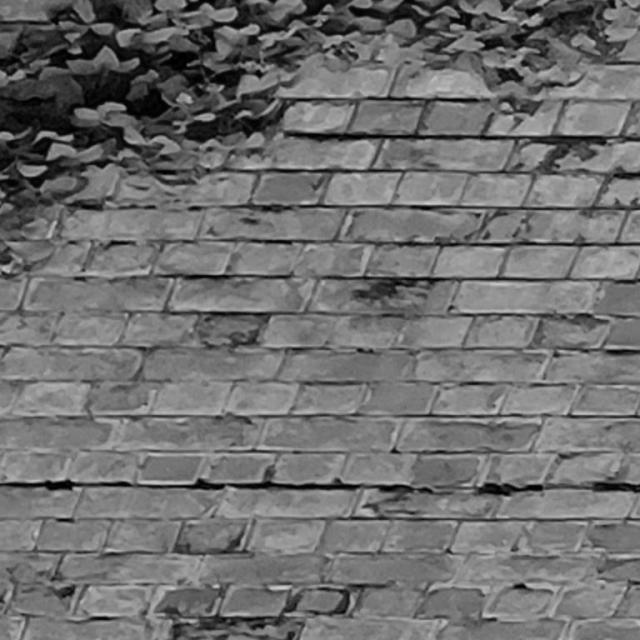crack: (1, 476, 640, 496)
